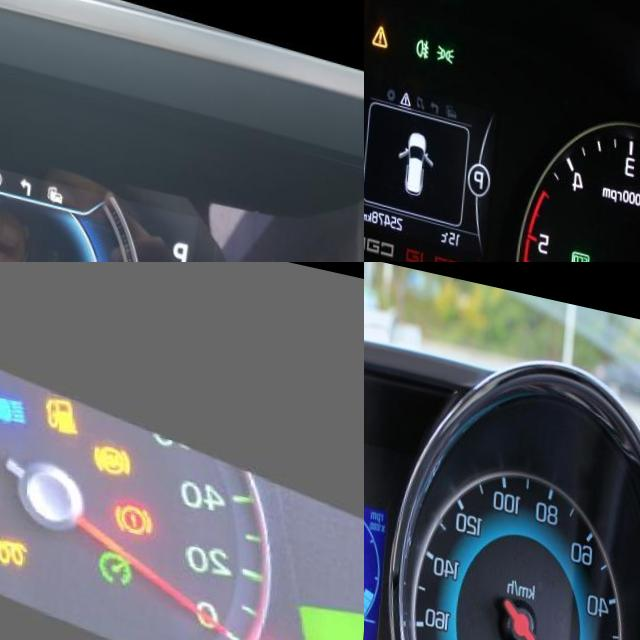Central Warning lamp: (377, 9, 395, 36)
Doors: (557, 619, 573, 640)
FrontFogLight: (421, 21, 436, 45)
SideLamp: (441, 26, 461, 48)
